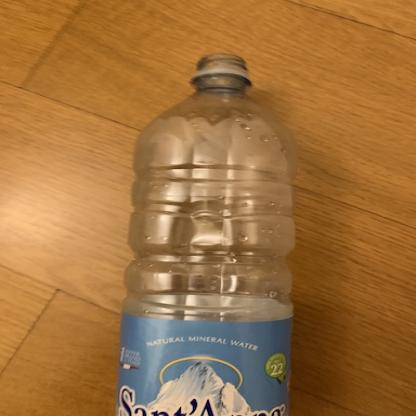trash: (112, 51, 294, 416)
